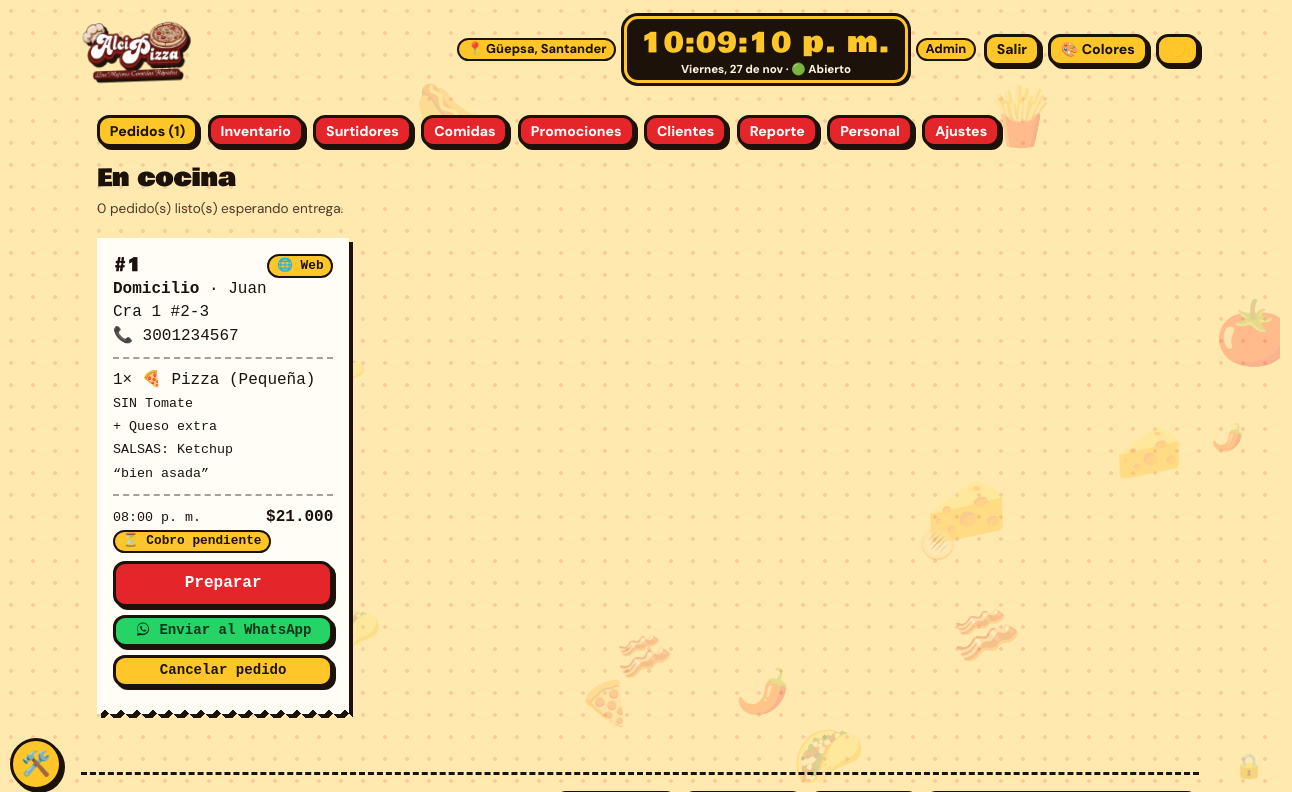
it: Pestaña Pedidos › avanza el estado: Preparar envía PATCH preparando y recarga
Click the button "Preparar" at [223, 584], box [113, 561, 333, 607]
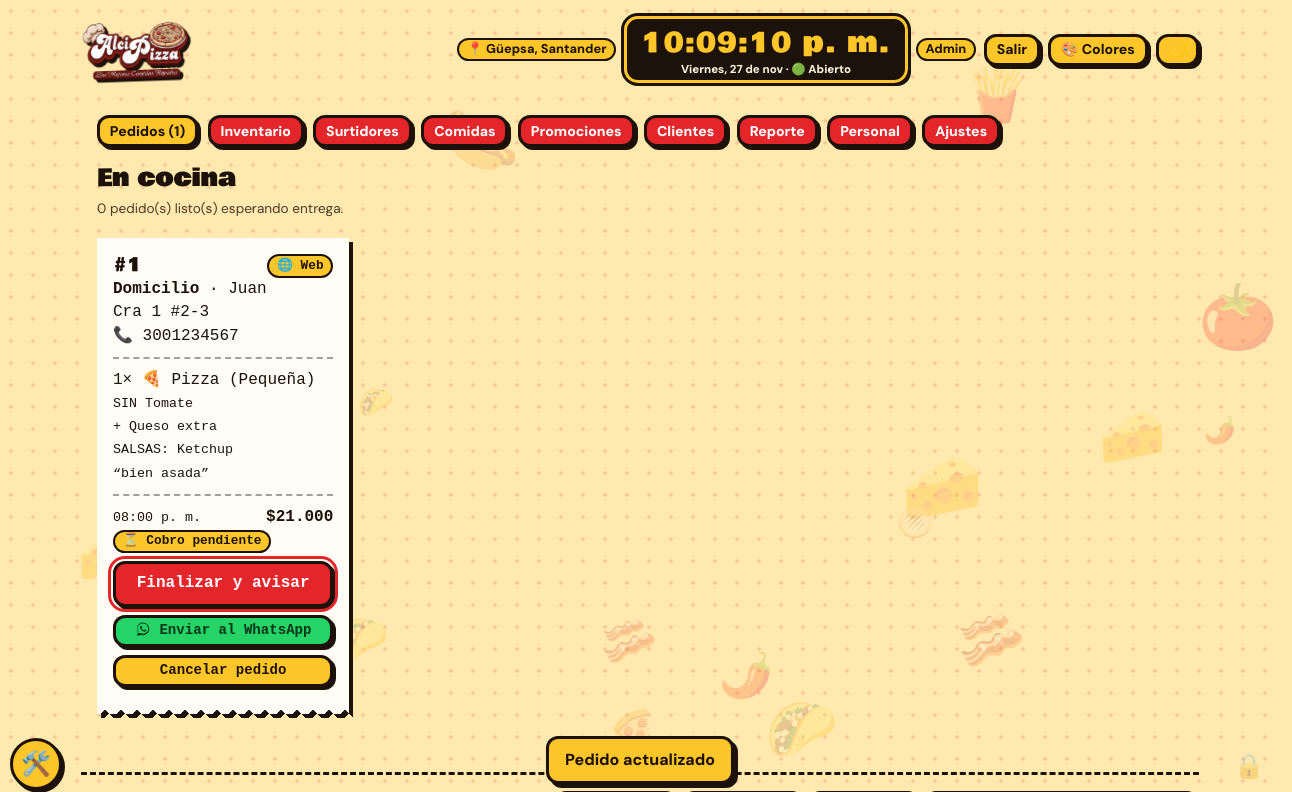
Check: the button "Finalizar y avisar" is shown, box [113, 561, 333, 607]
